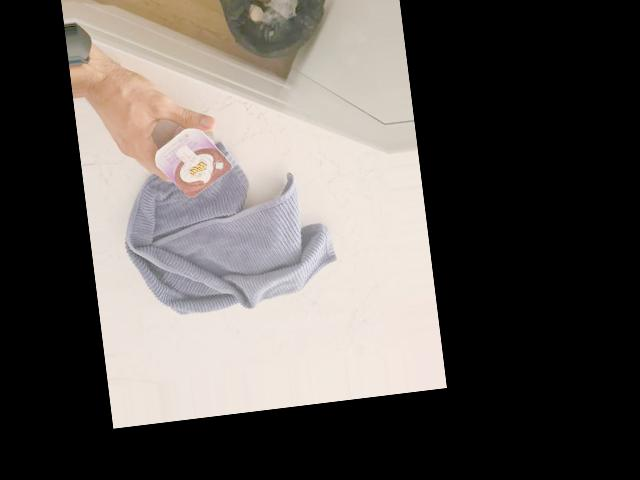milky: (154, 120, 235, 197)
